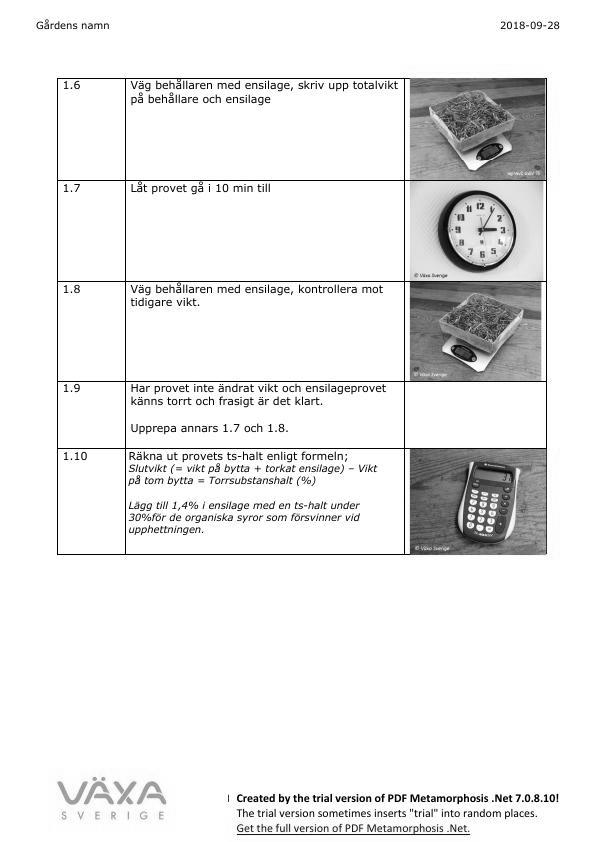table: (48, 74, 557, 563)
text: (220, 791, 565, 841)
